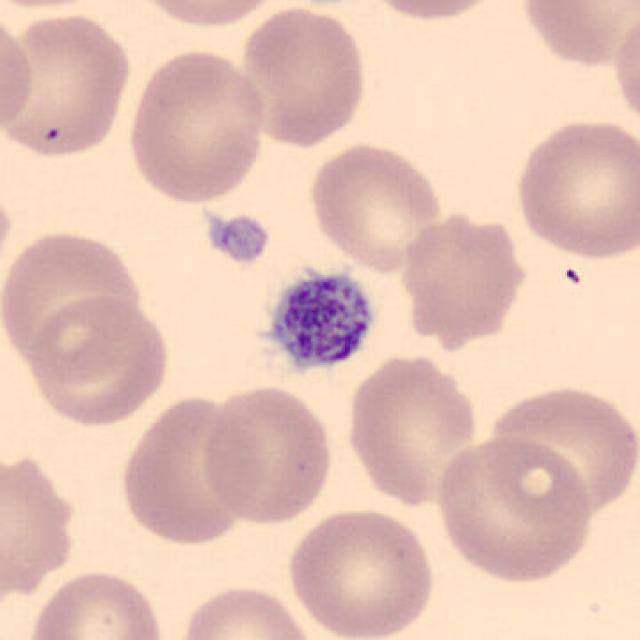Platelets: (259, 263, 377, 379), (206, 212, 274, 266)
RBC: (430, 432, 594, 587), (122, 44, 268, 206), (114, 390, 263, 548), (342, 349, 484, 510), (484, 379, 638, 520), (285, 502, 439, 640), (0, 225, 148, 368), (197, 381, 338, 529), (2, 7, 135, 162), (23, 292, 174, 428), (390, 205, 526, 352), (235, 4, 372, 148), (510, 113, 638, 263), (306, 138, 446, 275), (0, 444, 84, 616), (23, 566, 169, 640), (514, 0, 638, 71), (175, 582, 316, 640), (124, 0, 288, 32), (0, 7, 37, 141), (608, 5, 640, 134), (357, 0, 512, 25), (0, 176, 16, 296), (0, 0, 123, 14)
